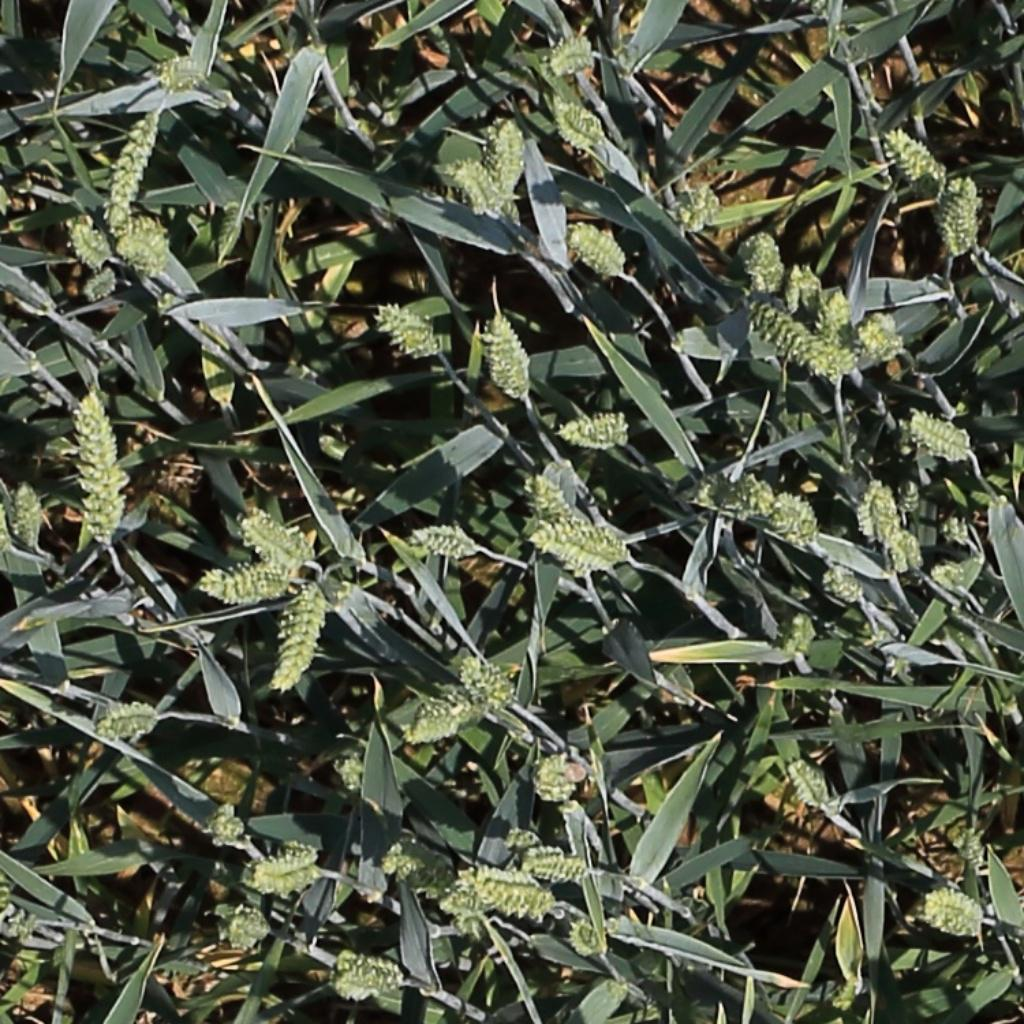0-0: (744, 289, 845, 375), (105, 102, 165, 230), (697, 458, 786, 533), (389, 698, 509, 752), (76, 398, 120, 544), (274, 580, 324, 692), (524, 744, 601, 816), (199, 561, 313, 608), (476, 863, 555, 927), (242, 835, 309, 908), (207, 897, 281, 959), (488, 307, 533, 404), (886, 126, 948, 191), (543, 411, 628, 457), (190, 797, 256, 854), (406, 520, 488, 565), (816, 285, 856, 377), (90, 698, 172, 742), (241, 513, 305, 569), (783, 756, 839, 819), (80, 386, 120, 473), (528, 465, 580, 531), (375, 304, 441, 354), (532, 532, 615, 570), (935, 173, 973, 255), (569, 223, 628, 274), (537, 524, 628, 557), (551, 94, 606, 148), (446, 155, 498, 212), (458, 656, 516, 707), (434, 879, 501, 923), (907, 412, 973, 456), (495, 109, 522, 208), (65, 215, 114, 268), (922, 894, 983, 935), (372, 845, 430, 888), (682, 172, 722, 234), (776, 492, 821, 546), (858, 314, 906, 363), (13, 475, 42, 555), (858, 473, 888, 550), (888, 521, 927, 580), (499, 822, 552, 865), (327, 974, 400, 1004), (955, 169, 980, 253), (755, 223, 782, 300), (333, 953, 405, 980), (569, 917, 611, 959), (532, 851, 587, 883), (786, 607, 817, 663), (824, 566, 869, 604), (785, 259, 811, 318), (898, 473, 925, 527), (80, 264, 118, 301), (550, 40, 593, 70), (155, 62, 204, 87), (941, 510, 970, 543)
